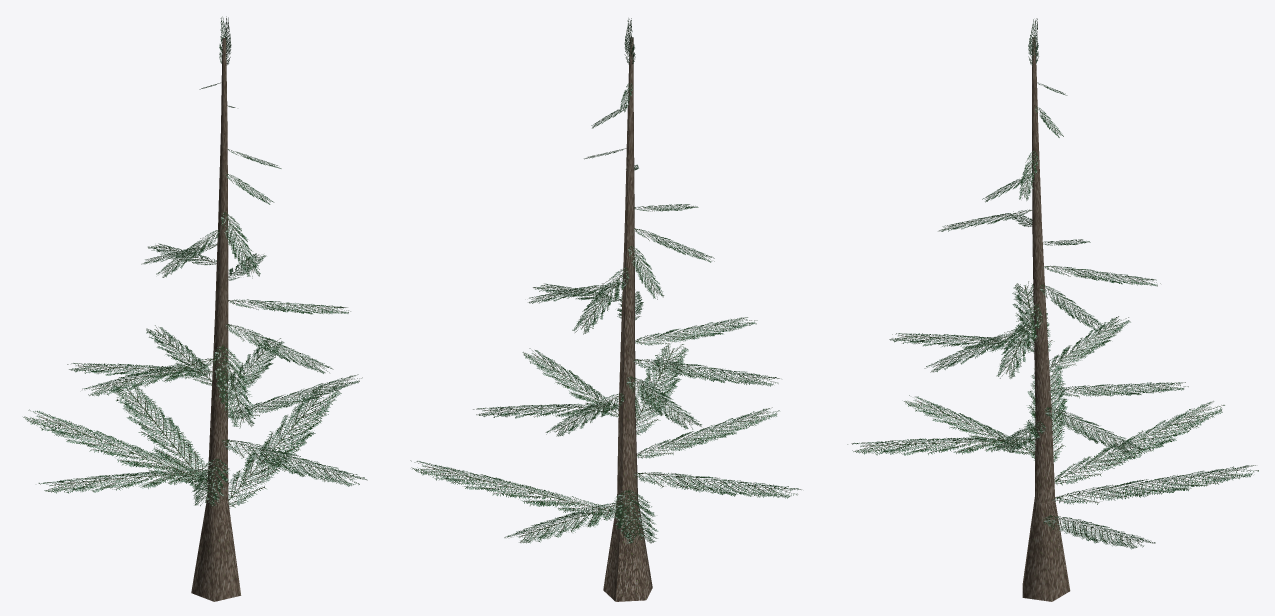
The model's file is pinheiro_nv_a_lo.glb.
3 views of the same model, side by side, from view 1: azimuth 30°, elevation 25°; view 2: azimuth 150°, elevation 25°; view 3: azimuth 270°, elevation 25° (orthographic).
Visible parts, largest first — view 1: pinheiro_nv_a_lo; view 2: pinheiro_nv_a_lo; view 3: pinheiro_nv_a_lo.
Part boxes in pixels (x1=…): pinheiro_nv_a_lo: x1=23, y1=16, x2=367, y2=601; pinheiro_nv_a_lo: x1=410, y1=18, x2=801, y2=601; pinheiro_nv_a_lo: x1=847, y1=18, x2=1258, y2=601.
Bounding box in the file's own units: 6.46 × 10 × 6.58.
2 materials, 2 textured.
